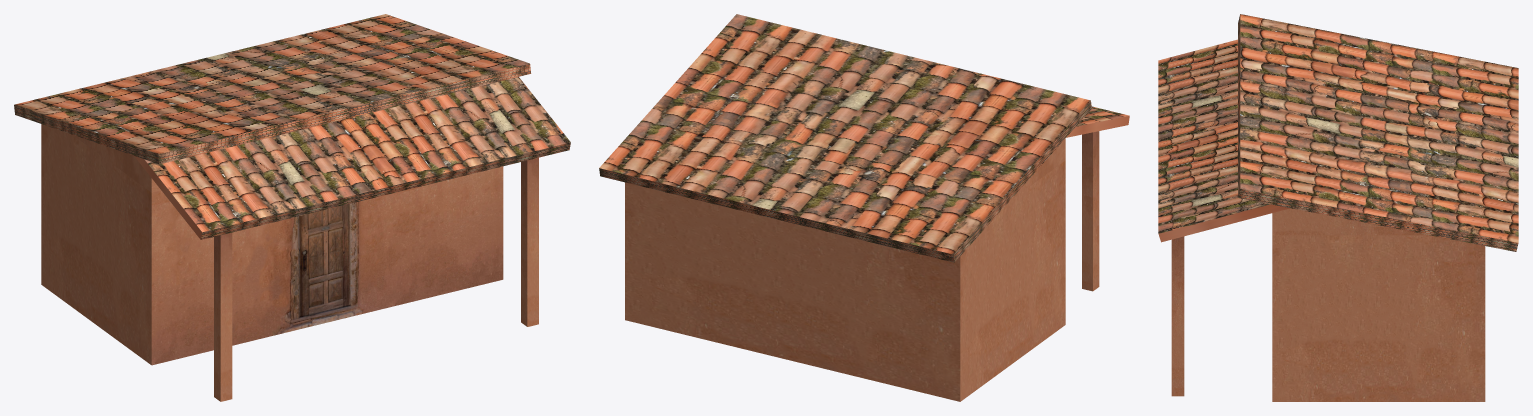
File: Rumah ke 3.fbx
3 views of the same model, side by side, from view 1: azimuth 30°, elevation 25°; view 2: azimuth 150°, elevation 25°; view 3: azimuth 270°, elevation 25° (orthographic). The views are drawn at different scales.
Parts seen in each view (by area): view 1: Cube, Cube.003, Cube.002, Cube.005, Cube.004; view 2: Cube.003, Cube, Cube.005, Cube.002; view 3: Cube.003, Cube, Cube.002, Cube.004.
Boxes of the visible parts, x1,y1,x2,y2 form: Cube: (41, 124, 503, 365); Cube.003: (14, 14, 531, 164); Cube.002: (134, 77, 570, 239); Cube.005: (214, 232, 232, 401); Cube.004: (521, 157, 538, 326); Cube.003: (599, 14, 1091, 262); Cube: (625, 138, 1065, 401); Cube.005: (1082, 131, 1099, 291); Cube.002: (1066, 106, 1129, 137); Cube.003: (1238, 14, 1518, 251); Cube: (1272, 208, 1485, 401); Cube.002: (1158, 39, 1289, 242); Cube.004: (1171, 236, 1184, 396).
Size of the model in its own units: 921 by 540 by 801.
Materials: 5 (5 with a texture image).
